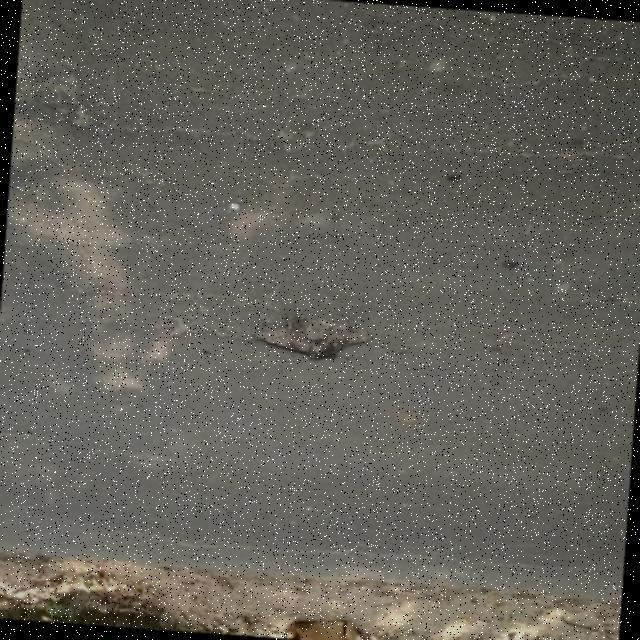Pothole: (256, 313, 366, 359)
